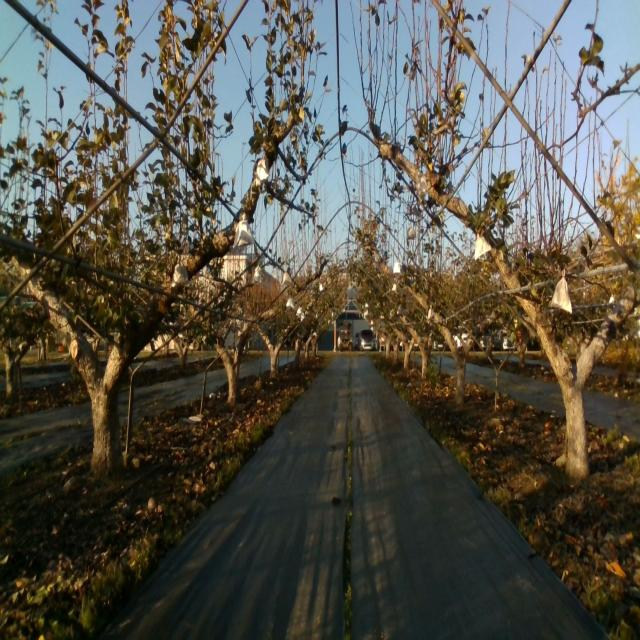pearbags: (549, 266, 573, 314), (233, 214, 254, 248), (170, 260, 191, 292), (254, 154, 270, 189), (474, 232, 491, 262), (414, 174, 428, 201)
